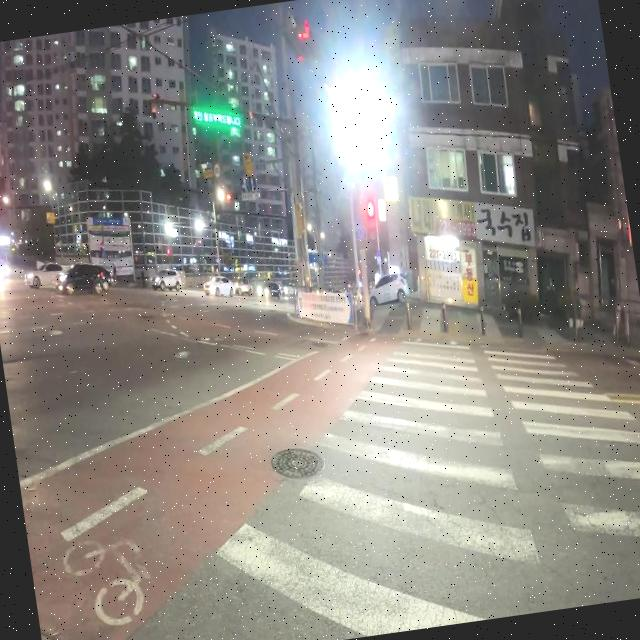crosswalk: (202, 334, 640, 638)
